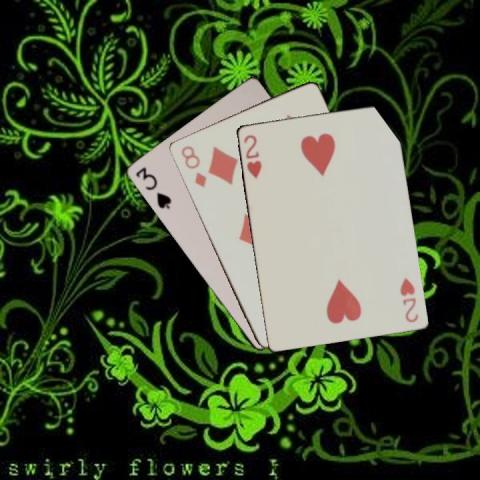2h: (396, 274, 419, 324), (240, 132, 262, 180)
3s: (132, 164, 173, 210)
8d: (178, 142, 208, 189)
